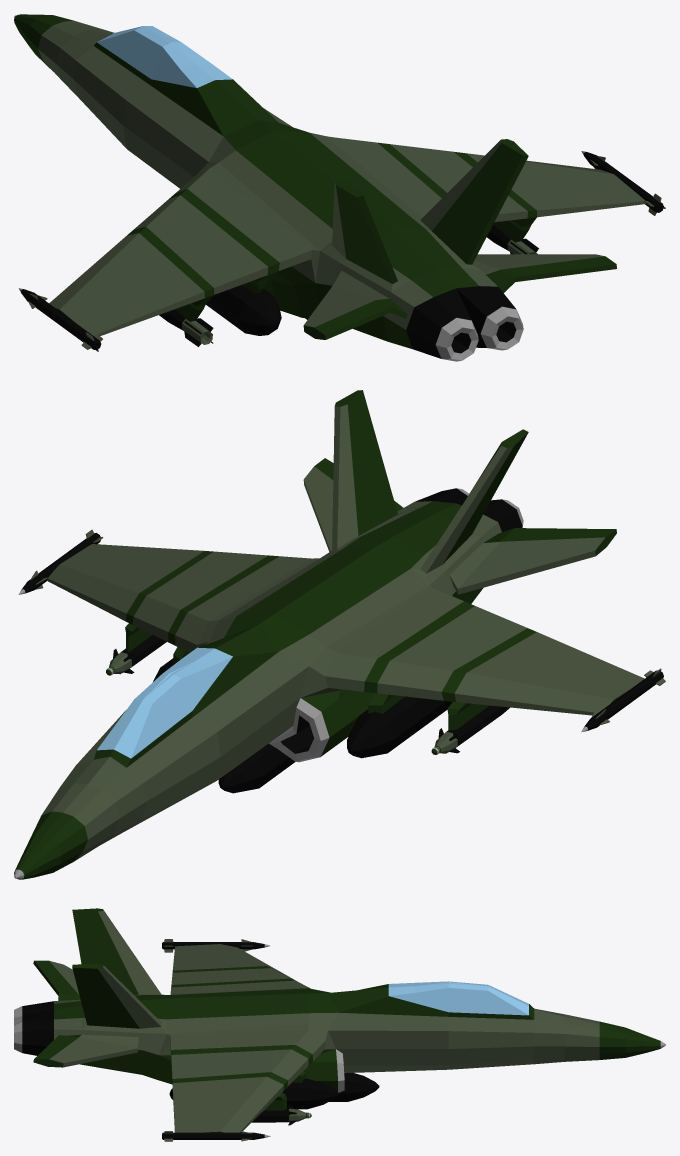
3 views of the same model, one above another, from view 1: azimuth 30°, elevation 25°; view 2: azimuth 150°, elevation 25°; view 3: azimuth 270°, elevation 25° (orthographic). The views are drawn at different scales.
Parts seen in each view (by area): view 1: F18, FuelLeft, MisileSmallLeft, MisileBigLeft, MisileSmallRight, MisileBigRight; view 2: F18, FuelLeft, FuelCenter, MisileBigLeft, MisileSmallLeft, MisileBigRight, MisileSmallRight; view 3: F18, FuelRight, MisileSmallRight, FuelCenter, MisileBigRight, MisileSmallLeft.
Boxes of the visible parts, x1=… form: F18: x1=14, y1=14, x2=645, y2=361; FuelLeft: x1=206, y1=285, x2=281, y2=335; MisileSmallLeft: x1=19, y1=288, x2=102, y2=351; MisileBigLeft: x1=159, y1=309, x2=213, y2=346; MisileSmallRight: x1=581, y1=151, x2=665, y2=215; MisileBigRight: x1=487, y1=224, x2=538, y2=254; F18: x1=14, y1=390, x2=644, y2=879; FuelLeft: x1=347, y1=696, x2=452, y2=758; FuelCenter: x1=218, y1=743, x2=295, y2=793; MisileBigLeft: x1=431, y1=705, x2=509, y2=754; MisileSmallLeft: x1=581, y1=668, x2=665, y2=732; MisileBigRight: x1=106, y1=635, x2=166, y2=675; MisileSmallRight: x1=18, y1=529, x2=103, y2=594; F18: x1=14, y1=908, x2=665, y2=1132; FuelRight: x1=169, y1=1078, x2=338, y2=1109; MisileSmallRight: x1=162, y1=1131, x2=270, y2=1141; FuelCenter: x1=329, y1=1073, x2=379, y2=1101; MisileBigRight: x1=252, y1=1105, x2=311, y2=1125; MisileSmallLeft: x1=162, y1=939, x2=270, y2=952.
Size of the model in its own units: 1284 by 501 by 1805.
